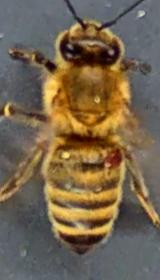varroa_mite: (89, 141, 140, 176)
